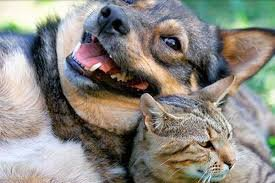cat: (135, 76, 275, 182)
dog: (4, 1, 275, 147)
